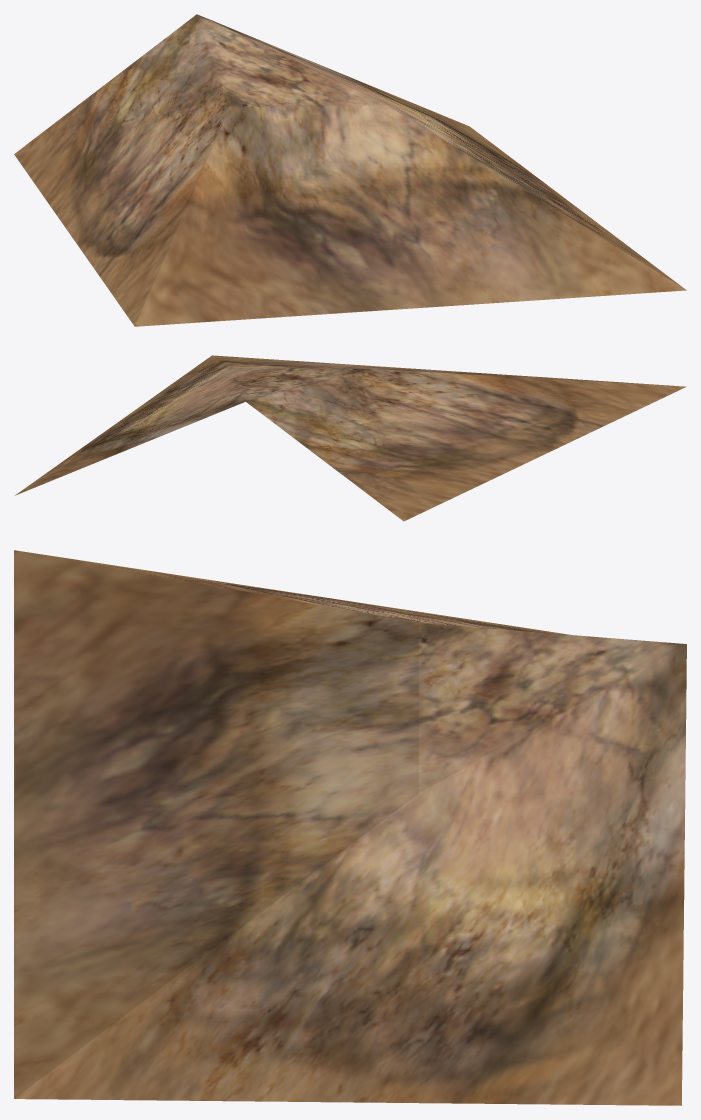
The picture shows the model from 3 angles, top to bottom: view 1: azimuth 30°, elevation 25°; view 2: azimuth 150°, elevation 25°; view 3: azimuth 270°, elevation 25°; orthographic projection. The views are drawn at different scales.
Parts seen in each view (by area): view 1: Box18; view 2: Box18; view 3: Box18.
Boxes of the visible parts, bbox=[...] form: Box18: bbox=[14, 14, 686, 326]; Box18: bbox=[15, 355, 686, 521]; Box18: bbox=[14, 550, 686, 1105].
Size of the model in its own units: 560 by 170 by 392.
1 material, 1 textured.
